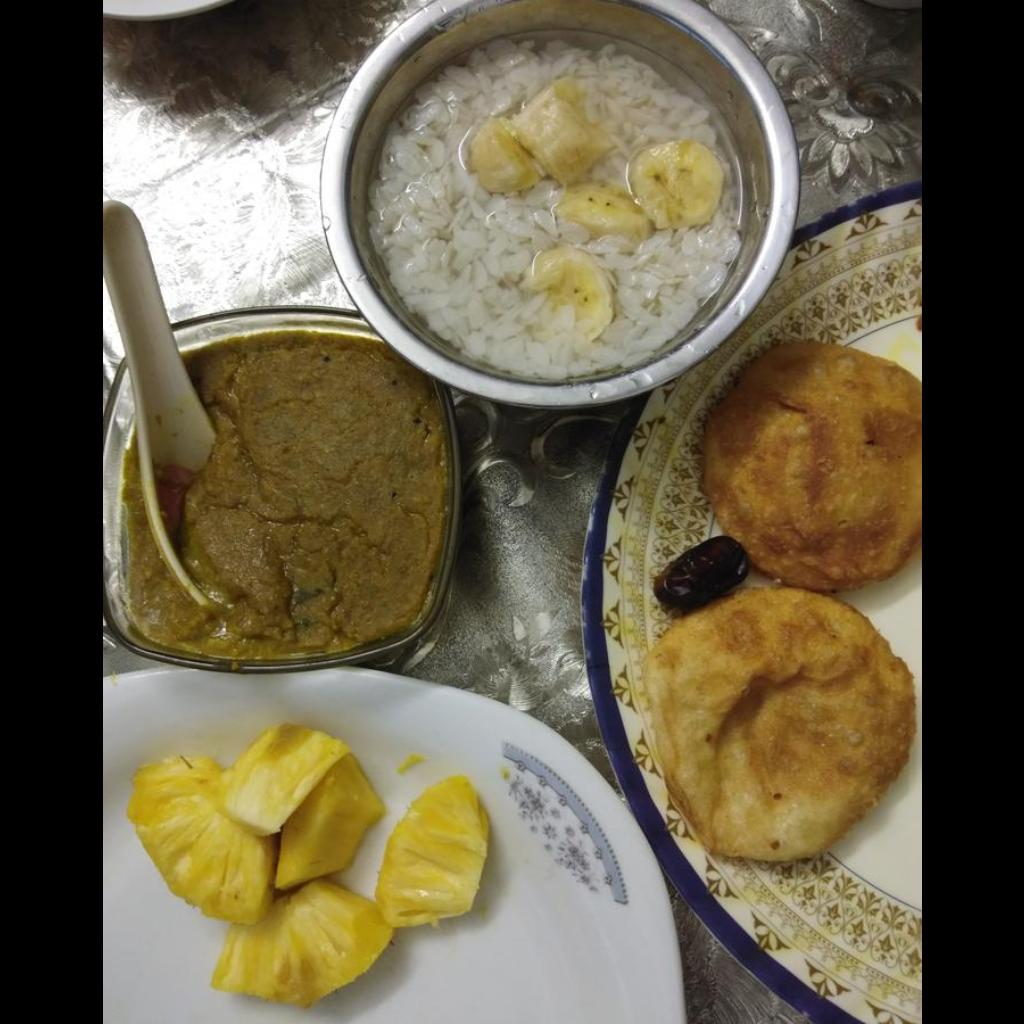daal: (128, 332, 450, 660)
dates: (653, 537, 747, 616)
payesh: (320, 0, 797, 407)
pineapple: (130, 725, 484, 1008)
puri: (655, 340, 920, 853)
